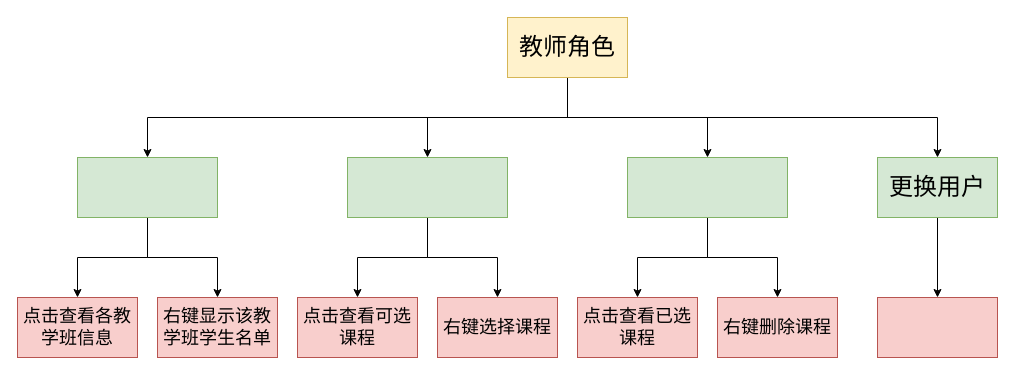
Some shapes in this 1015 by 375 pixel diagram are drawn without their labels. Each missing label, with the centre of its shape:
"教学班列表" goes at point (147, 187).
"教学课程" goes at point (707, 187).
"退出当前账号返回登录界面" goes at point (937, 327).
"选择教学课程" goes at point (427, 187).
